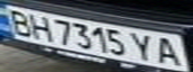1: (87, 24, 109, 53)
3: (69, 20, 90, 51)
5: (106, 26, 130, 56)
7: (51, 16, 75, 46)
A: (151, 34, 187, 68)
B: (3, 7, 36, 37)
H: (24, 11, 57, 42)
Y: (127, 29, 160, 62)
